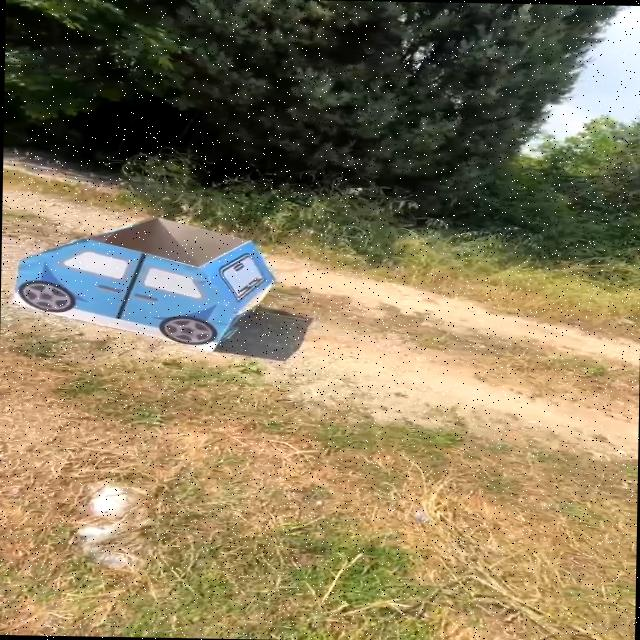blue_car: (0, 199, 304, 366)
